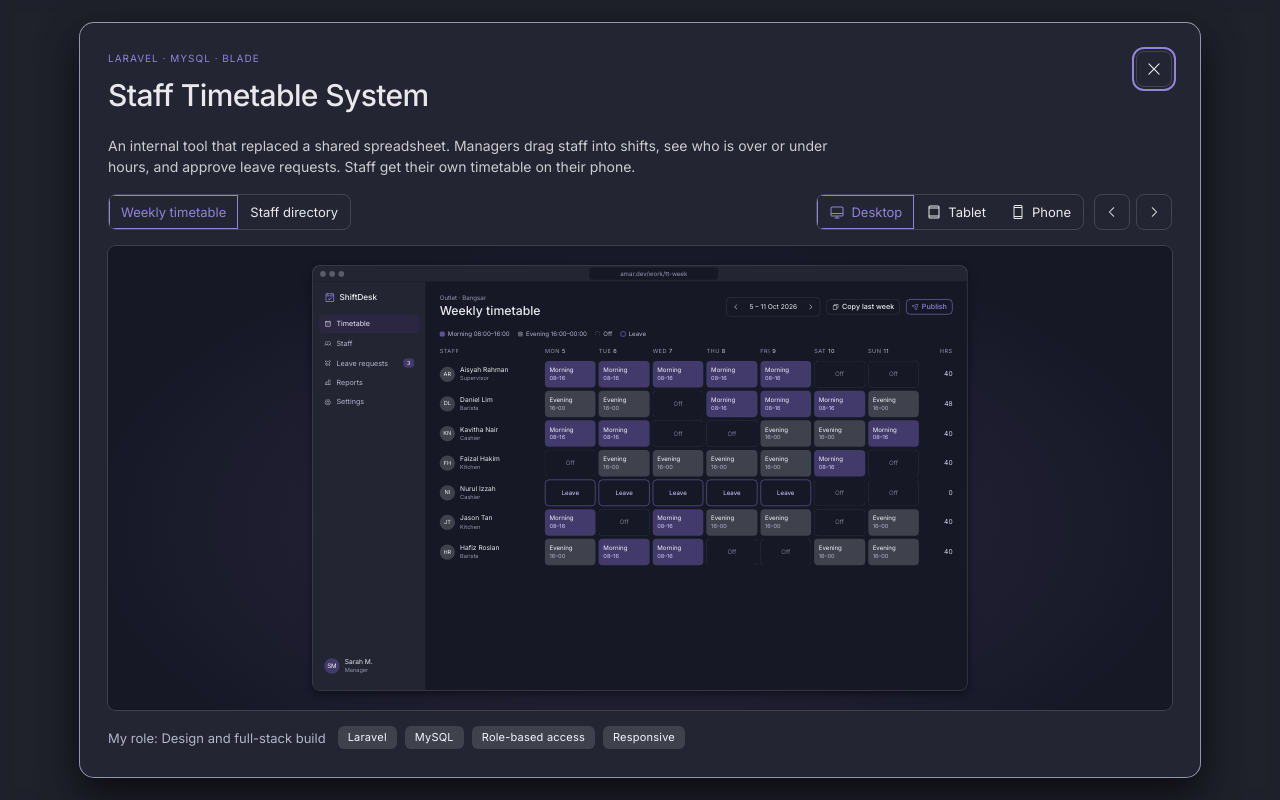
it: ProjectModal › switches device
Click the button "Phone". click: (1040, 212)
box: x1=998 y1=195 x2=1083 y2=229
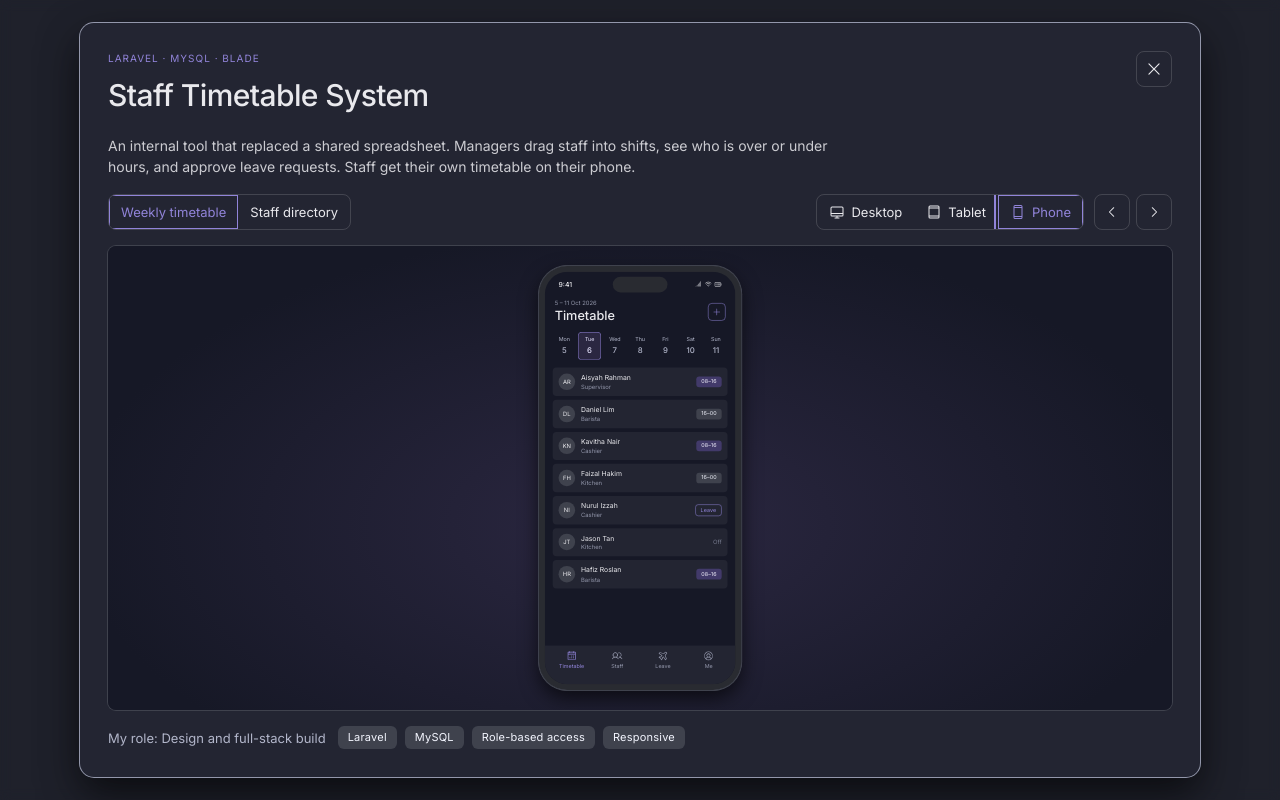
Check: the dialog no longer shows "amar.dev/work/"
